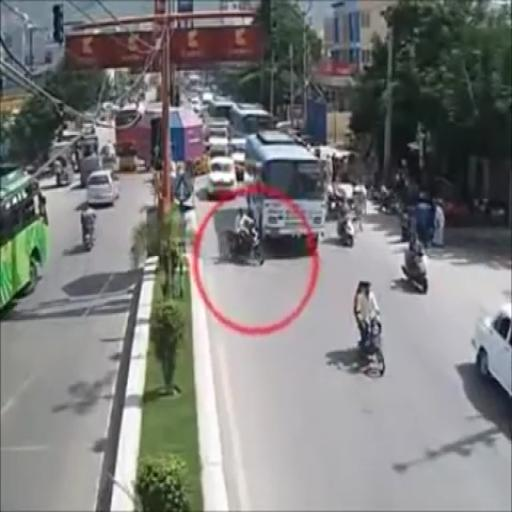小汽车: (246, 132, 323, 251), (210, 158, 237, 194), (89, 172, 119, 204)
自行车: (354, 280, 386, 370), (232, 206, 264, 268), (406, 233, 430, 293), (336, 198, 358, 247), (80, 201, 97, 247)
